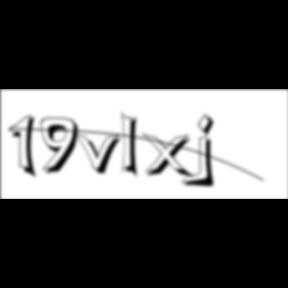1: (7, 114, 42, 182)
9: (40, 117, 86, 177)
I: (121, 110, 145, 182)
j: (194, 113, 222, 191)
v: (74, 131, 128, 177)
x: (142, 132, 198, 181)
